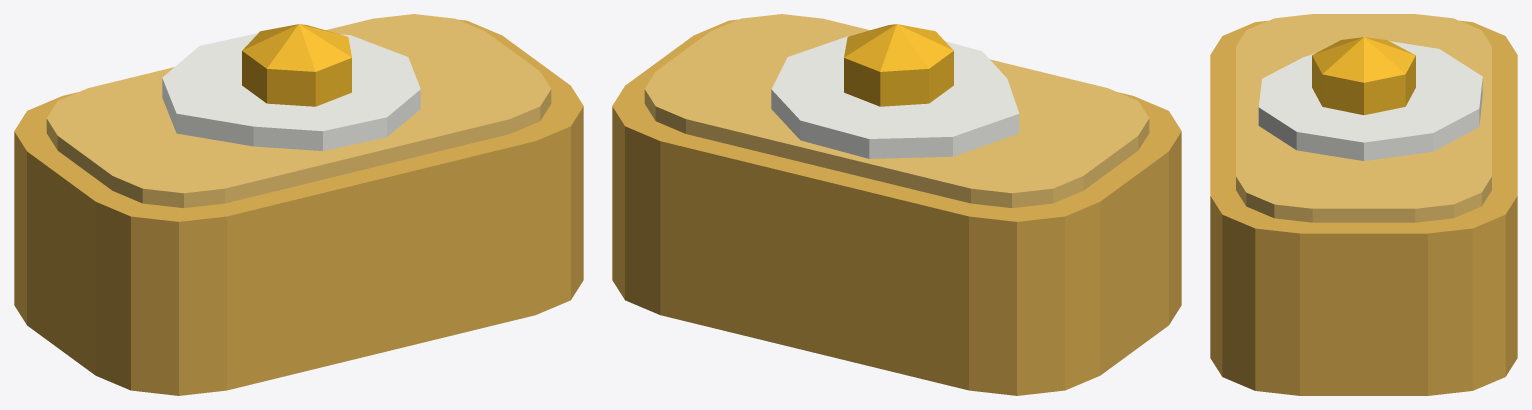
The model's file is Food_Gyeranppang.obj.
The picture shows the model from 3 angles, left to right: view 1: azimuth 30°, elevation 25°; view 2: azimuth 150°, elevation 25°; view 3: azimuth 270°, elevation 25°; orthographic projection. The views are drawn at different scales.
Size of the model in its own units: 2 by 1.08 by 1.2.
